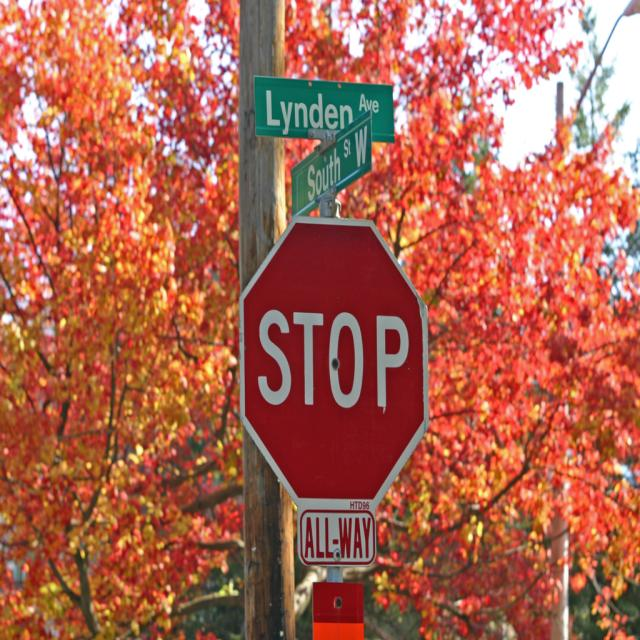Stop-sign: (237, 218, 428, 508)
